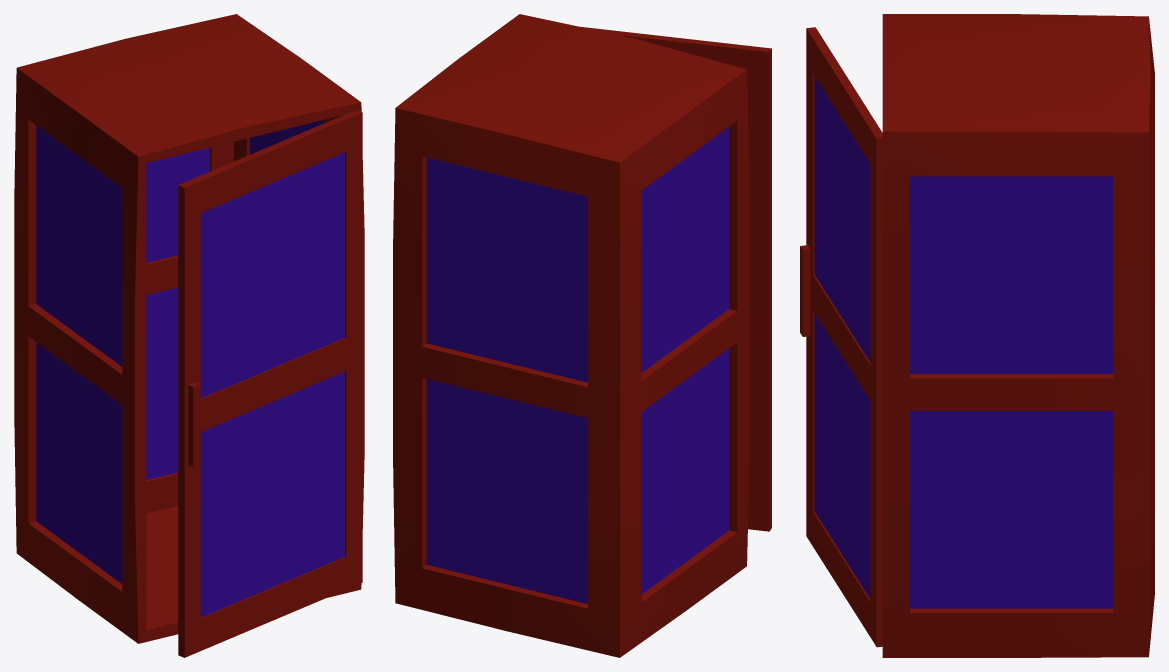
Rendered from SM_Phone_Box.fbx.
The picture shows the model from 3 angles, left to right: view 1: azimuth 30°, elevation 25°; view 2: azimuth 150°, elevation 25°; view 3: azimuth 270°, elevation 25°; orthographic projection. The views are drawn at different scales.
Parts seen in each view (by area): view 1: Box003, Box004; view 2: Box003, Box004; view 3: Box003, Box004.
Boxes of the visible parts, bbox=[...] form: Box003: bbox=[14, 14, 364, 643]; Box004: bbox=[178, 111, 362, 657]; Box003: bbox=[393, 14, 750, 657]; Box004: bbox=[580, 26, 771, 531]; Box003: bbox=[882, 14, 1154, 657]; Box004: bbox=[800, 27, 882, 647].
Bounding box in the file's own units: 1.22 × 2.49 × 1.51.
